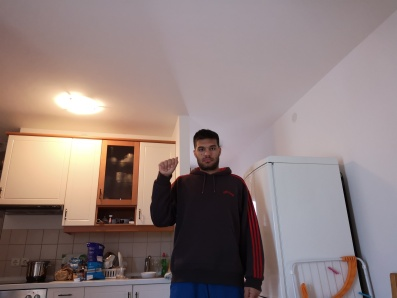A: (157, 155, 179, 176)
